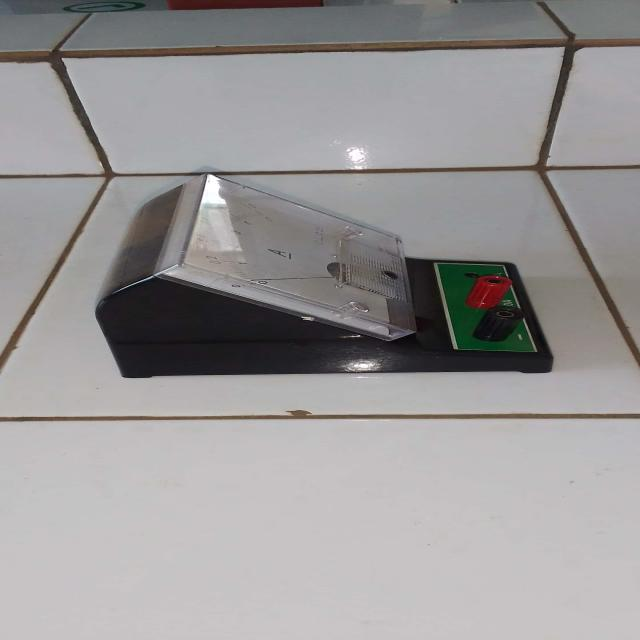Ammeter Analog: (105, 177, 574, 384)
